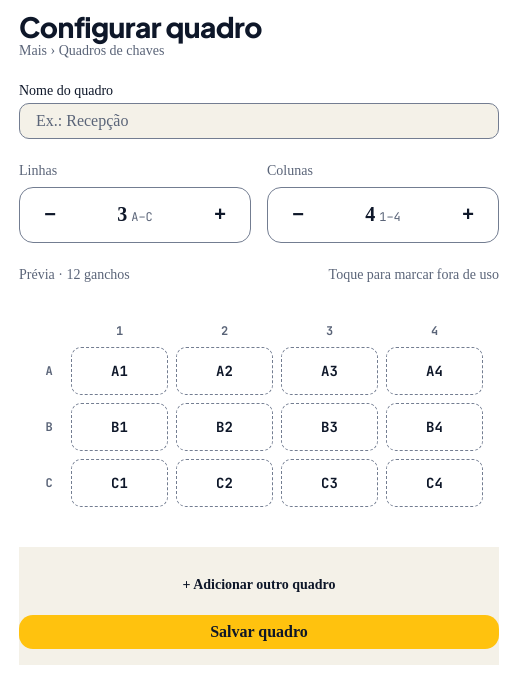
Test: QuadroForm (criar) › Adicionar outro quadro salva e limpa o formulário
The width and height of the screenshot is (519, 682).
In the field labelled "Nome do quadro": {"x": 259, "y": 121} [19, 103, 499, 139], type "Recepção"
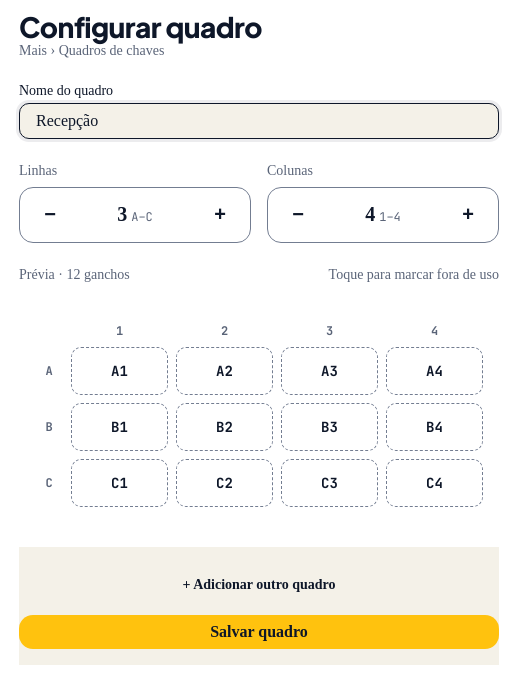
Click the button "+ Adicionar outro quadro": {"x": 259, "y": 585} [166, 563, 352, 607]
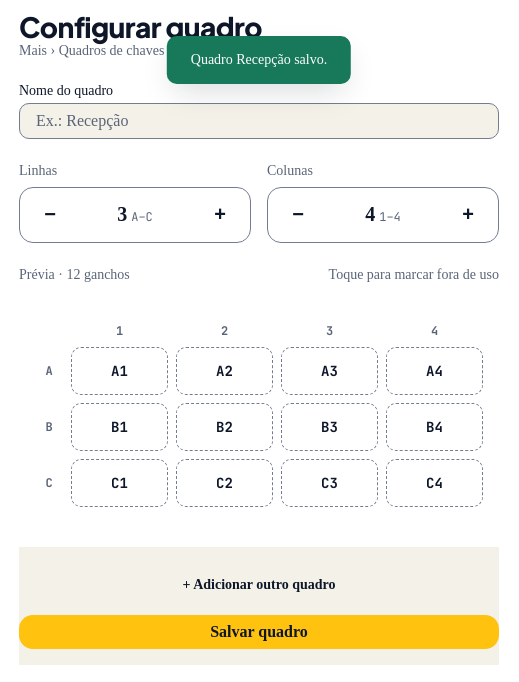
Now the text "Quadro Recepção salvo." is shown, box [167, 36, 351, 84]
Now the field labelled "Nome do quadro" is empty, box [19, 103, 499, 139]
